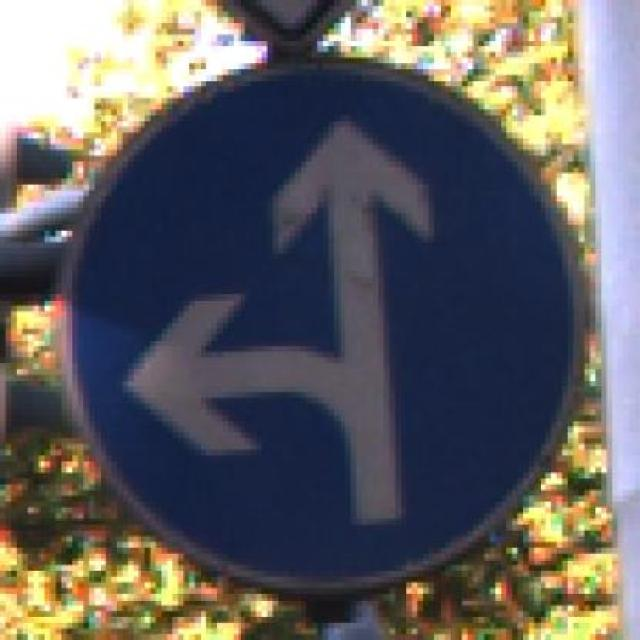Go straight or turn left: (28, 51, 595, 594)
